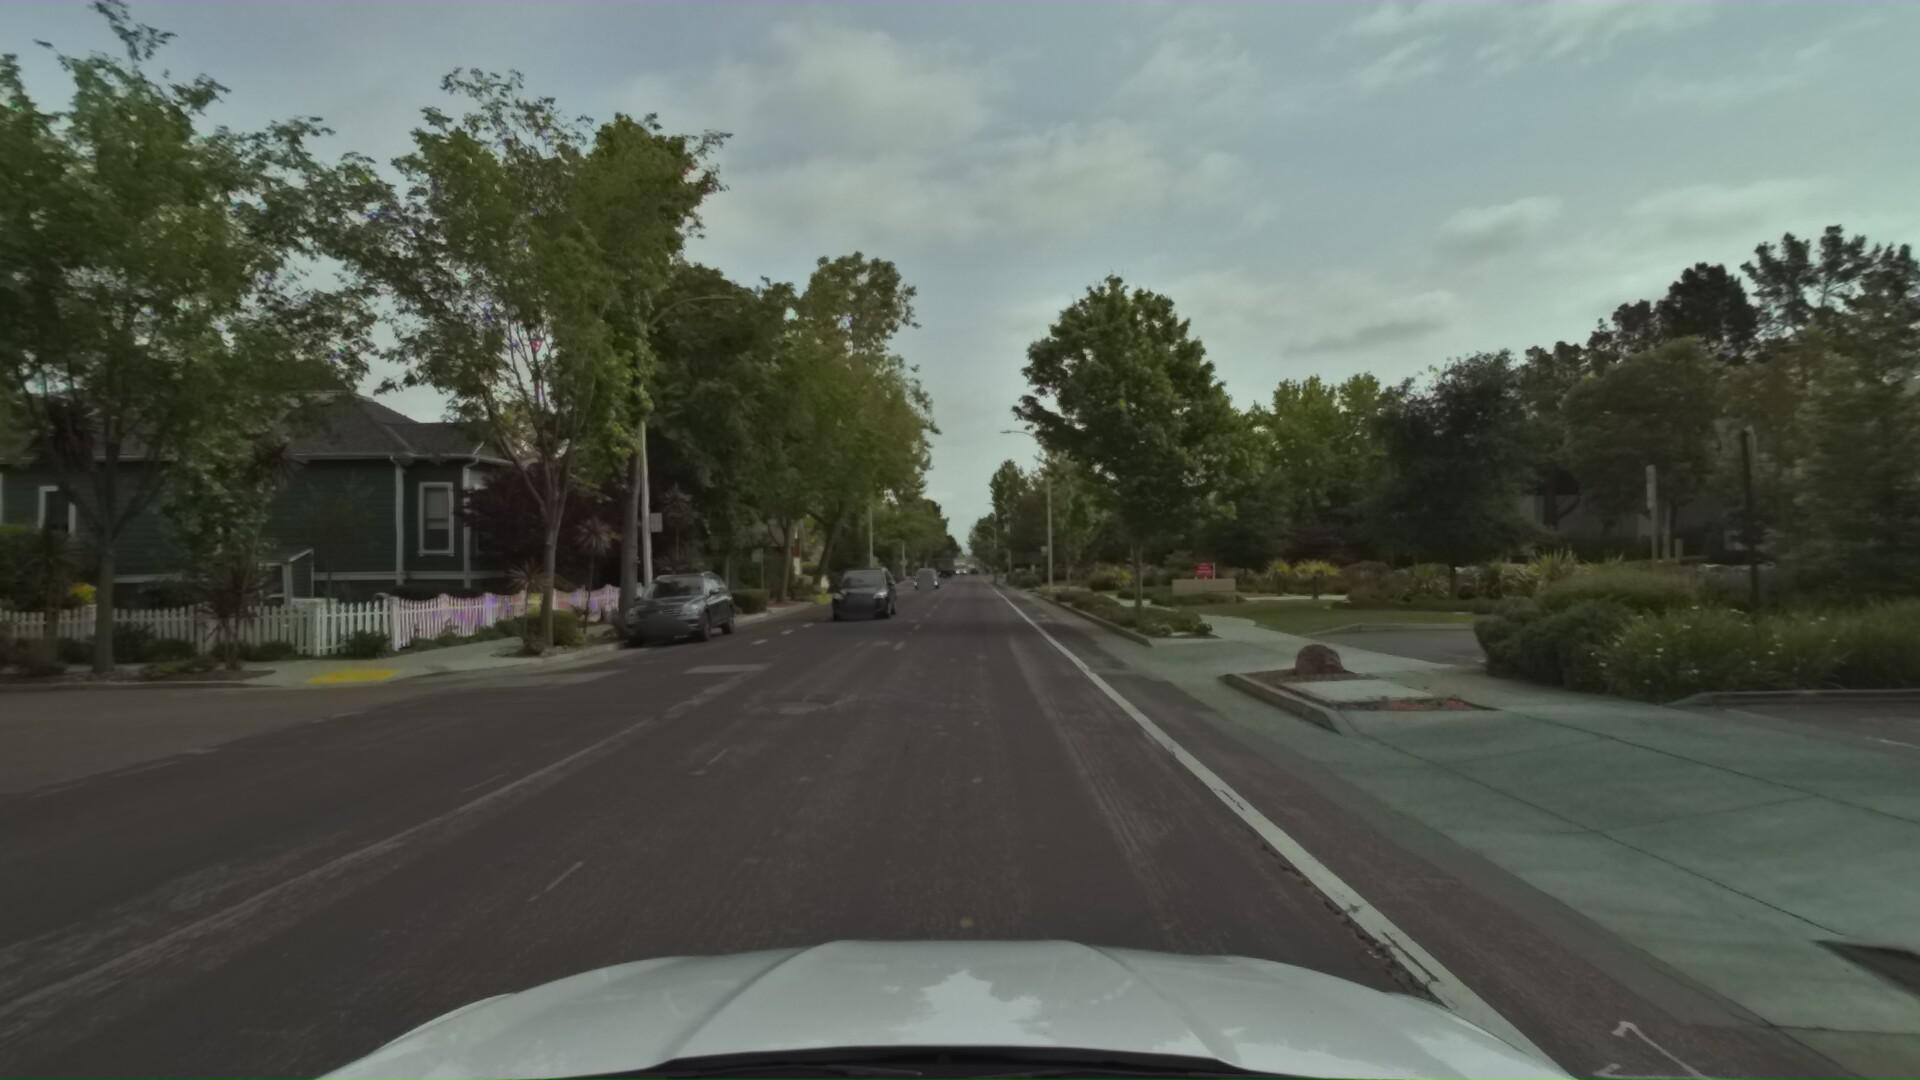car: (609, 568, 738, 653), (818, 564, 895, 624), (865, 567, 895, 592), (910, 566, 938, 589)
